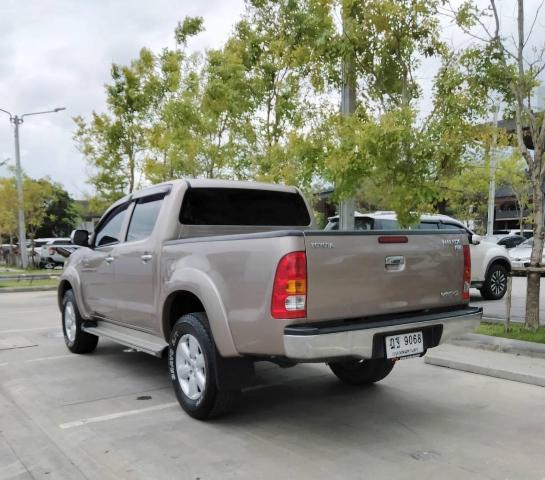pickup-truck: (42, 168, 490, 428)
